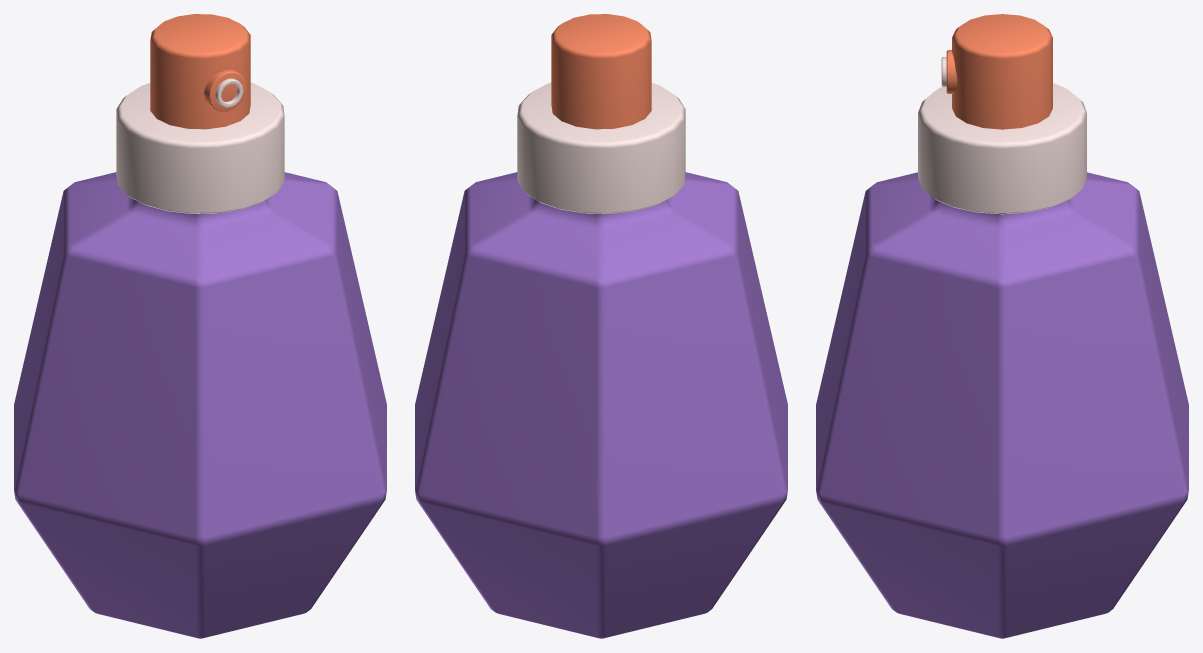
File: Store_17_Perfume_Bottle_2.glb
The picture shows the model from 3 angles, left to right: view 1: azimuth 30°, elevation 25°; view 2: azimuth 150°, elevation 25°; view 3: azimuth 270°, elevation 25°; orthographic projection.
Parts seen in each view (by area): view 1: Store_17_Perfume_Bottle_2; view 2: Store_17_Perfume_Bottle_2; view 3: Store_17_Perfume_Bottle_2.
Boxes of the visible parts, x1,y1,x2,y2 form: Store_17_Perfume_Bottle_2: [14, 14, 386, 638]; Store_17_Perfume_Bottle_2: [415, 14, 787, 638]; Store_17_Perfume_Bottle_2: [816, 14, 1188, 638].
Bounding box in the file's own units: 0.7923 × 1.14 × 0.6953.
Materials: 1 (1 with a texture image).
